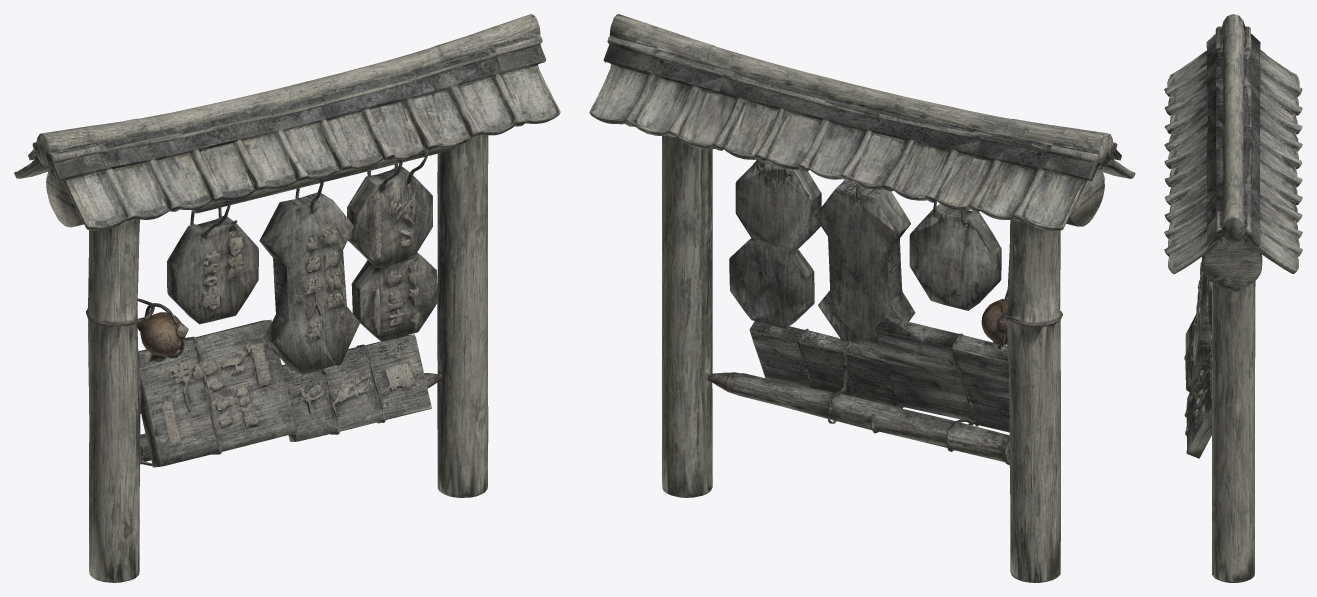
The model's file is ema-rack.glb.
3 views of the same model, side by side, from view 1: azimuth 30°, elevation 25°; view 2: azimuth 150°, elevation 25°; view 3: azimuth 270°, elevation 25° (orthographic). The views are drawn at different scales.
Parts seen in each view (by area): view 1: output_unwrapped; view 2: output_unwrapped; view 3: output_unwrapped.
Part boxes in pixels (x1,y1,x2,y2): output_unwrapped: (14,14,560,582); output_unwrapped: (589,14,1135,582); output_unwrapped: (1164,14,1302,582).
Bounding box in the file's own units: 2.26 × 2 × 0.6494.
Materials: 1 (1 with a texture image).
